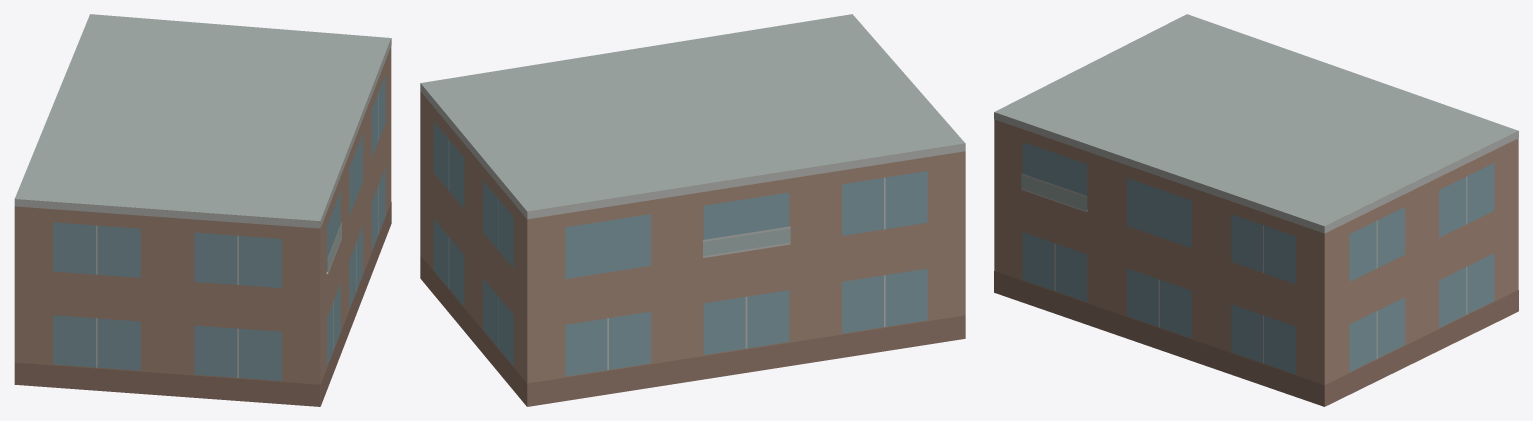
The model's file is survey-upis-32891043.glb.
3 renders of one model, left to right at view 1: azimuth 30°, elevation 25°; view 2: azimuth 150°, elevation 25°; view 3: azimuth 270°, elevation 25°, orthographic. The views are drawn at different scales.
Visible parts, largest first — view 1: survey-upis-32891043.tmp; view 2: survey-upis-32891043.tmp; view 3: survey-upis-32891043.tmp.
Boxes of the visible parts, x1,y1,x2,y2 form: survey-upis-32891043.tmp: [14, 14, 391, 406]; survey-upis-32891043.tmp: [420, 14, 965, 406]; survey-upis-32891043.tmp: [994, 14, 1518, 406].
Size of the model in its own units: 15.4 by 6.1 by 16.08.
